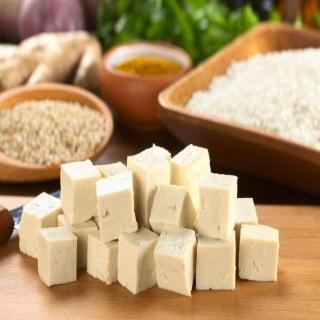Tahu: (14, 149, 294, 301)
